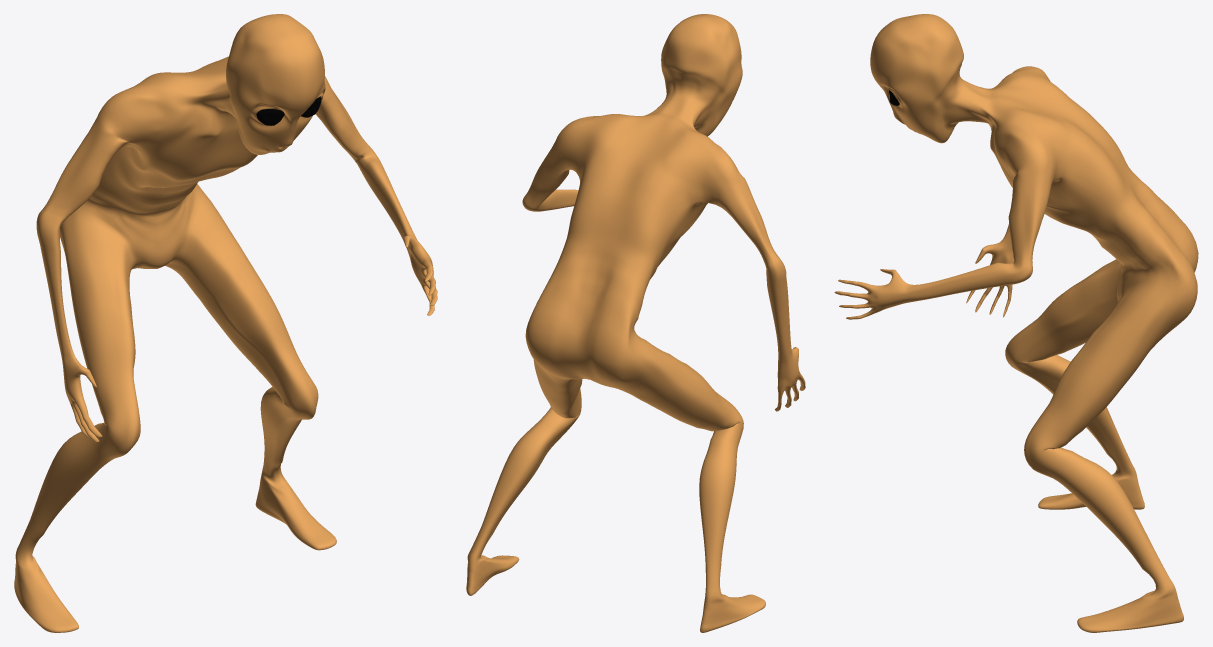
Rendered from alien.fbx.
The picture shows the model from 3 angles, left to right: view 1: azimuth 30°, elevation 25°; view 2: azimuth 150°, elevation 25°; view 3: azimuth 270°, elevation 25°; orthographic projection. The views are drawn at different scales.
Visible parts, largest first — view 1: body, eye1; view 2: body; view 3: body.
Boxes of the visible parts, x1,y1,x2,y2 form: body: (14,14,437,632); eye1: (256,96,321,125); body: (466,14,805,632); body: (834,14,1198,632).
Bounding box in the file's own units: 67.07 × 124 × 74.3.
